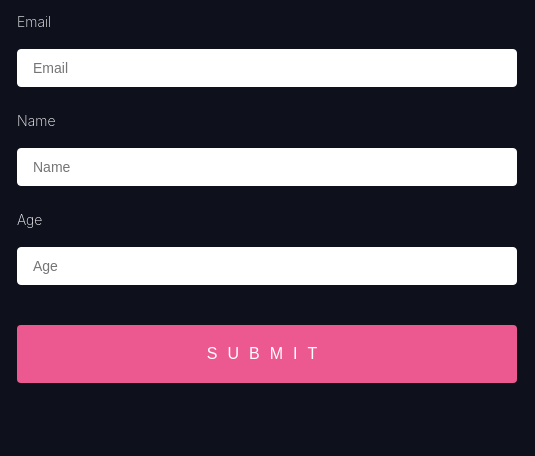
Test case: test age field › should show error when age is less than 18
This screenshot has width=535, height=456.
Type "12" into the number field with placeholder "Age" at (267, 266), box [17,247,517,285]
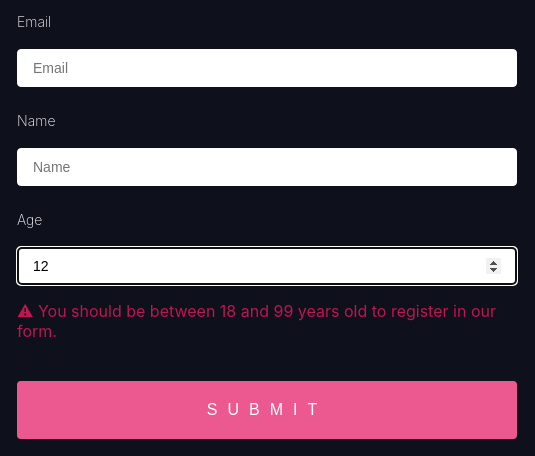
Expected: the text with class "error-message" is shown, [17,301,517,341]
